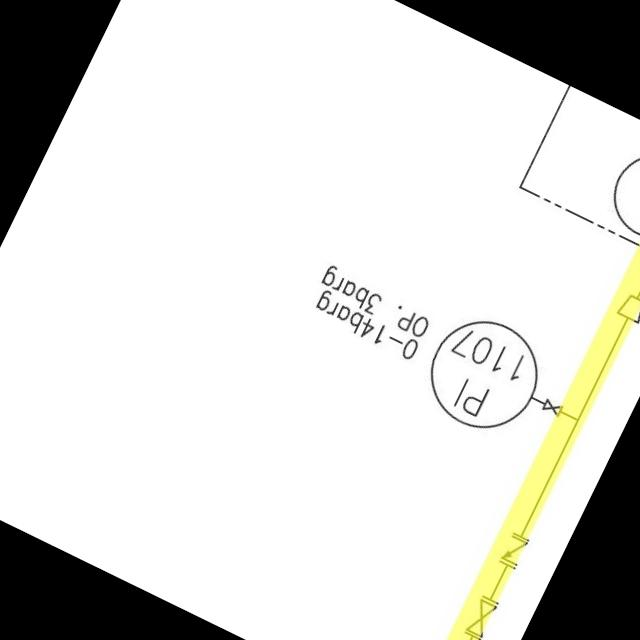GV: (458, 591, 503, 640), (536, 394, 566, 420)
P: (595, 120, 640, 252)
SP: (605, 280, 640, 329)
